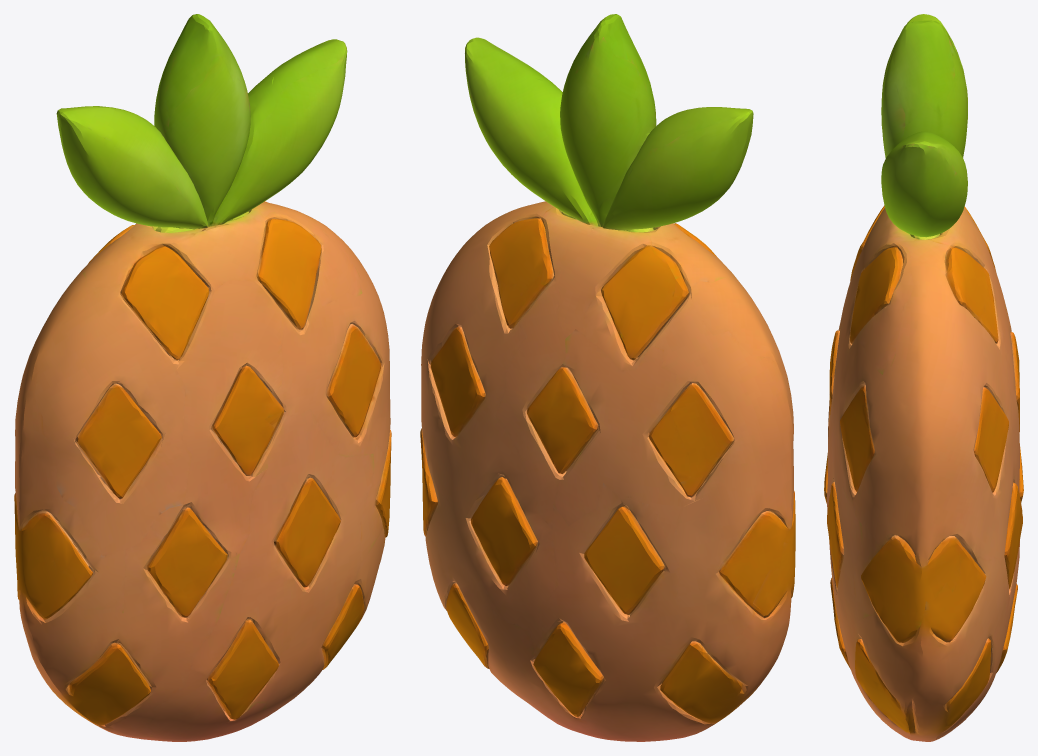
File: pineapple.glb
The picture shows the model from 3 angles, left to right: view 1: azimuth 30°, elevation 25°; view 2: azimuth 150°, elevation 25°; view 3: azimuth 270°, elevation 25°; orthographic projection. The views are drawn at different scales.
Parts seen in each view (by area): view 1: model; view 2: model; view 3: model.
Boxes of the visible parts, <box> form: model: <box>14,14,391,741</box>; model: <box>420,14,795,741</box>; model: <box>824,14,1023,741</box>.
Size of the model in its own units: 0.5432 by 1 by 0.261.
Materials: 1 (1 with a texture image).
